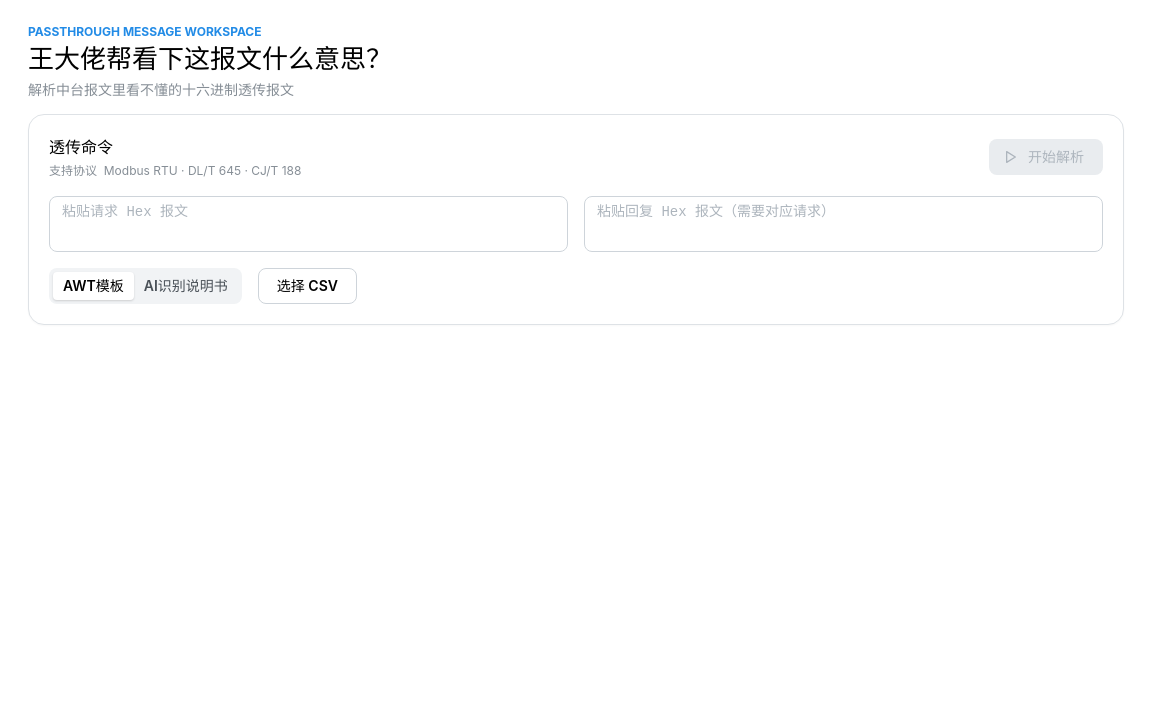
PassthroughWorkspace › keeps the log panel visible when parsing fails
The image size is (1152, 720).
Type "ZZ" into the text box named "请求报文" at (308, 224), box [49,196,568,252]
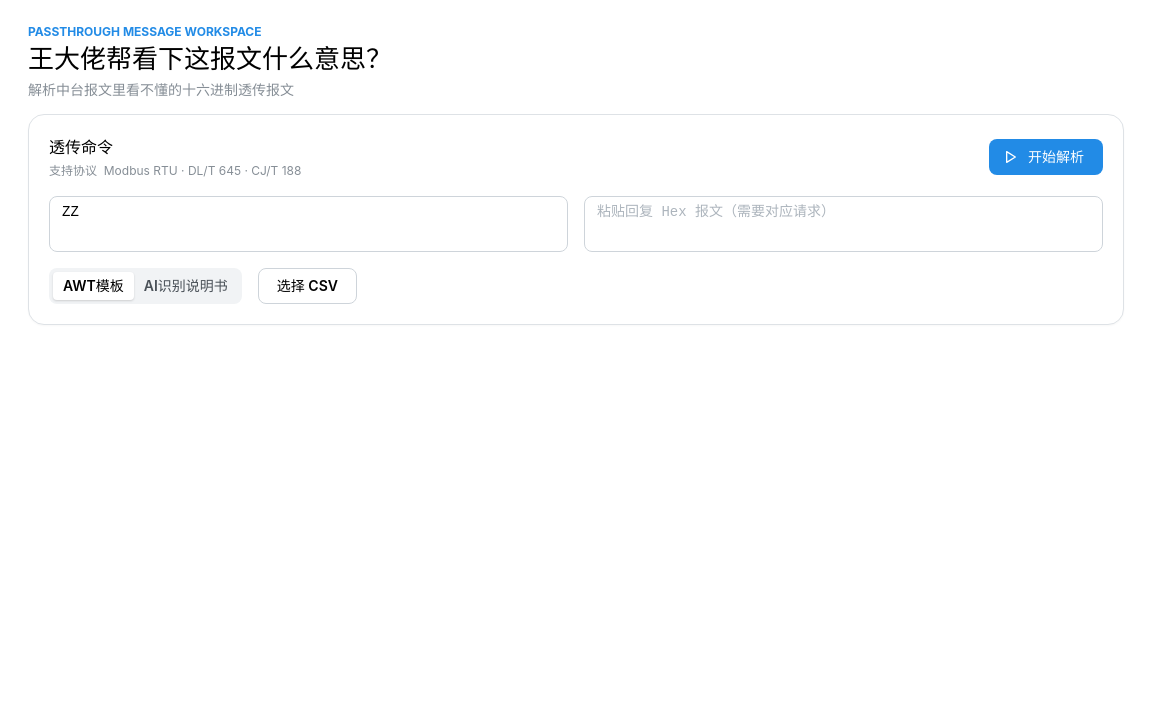
Click the button "开始解析" at (1046, 158), box [989,140,1103,176]
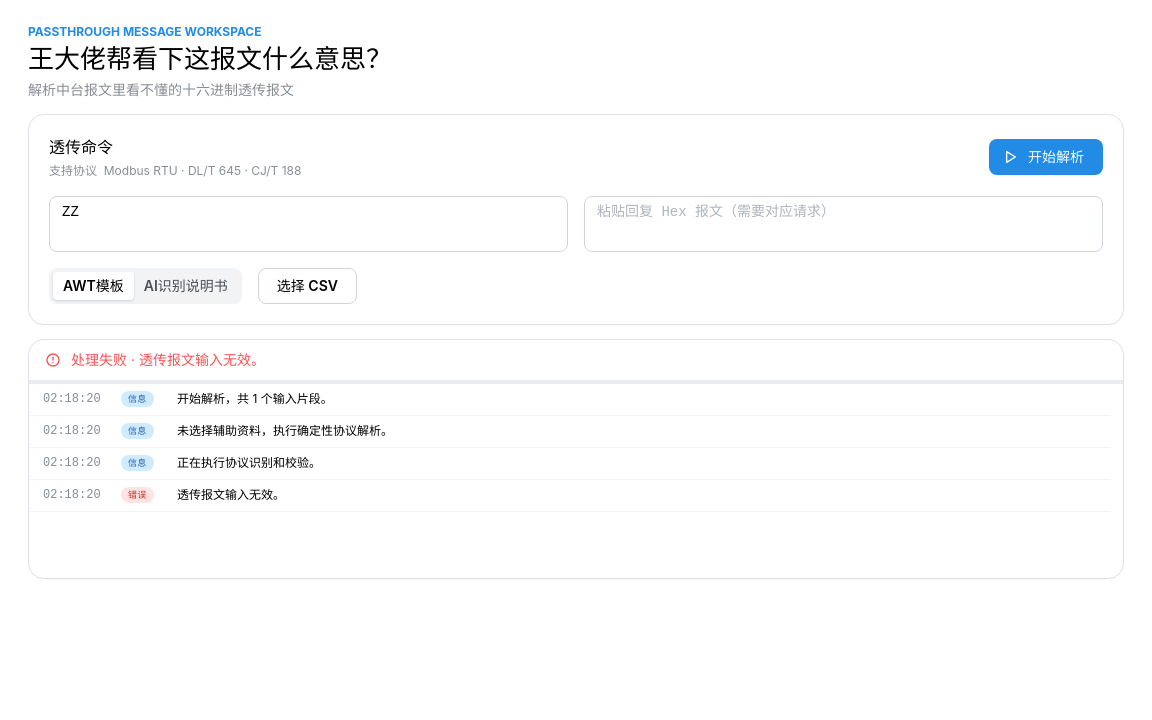
Now the element named "处理日志" is shown, box [28,339,1124,579]
Now the text "透传报文输入无效。" is shown, box [177,487,285,502]
